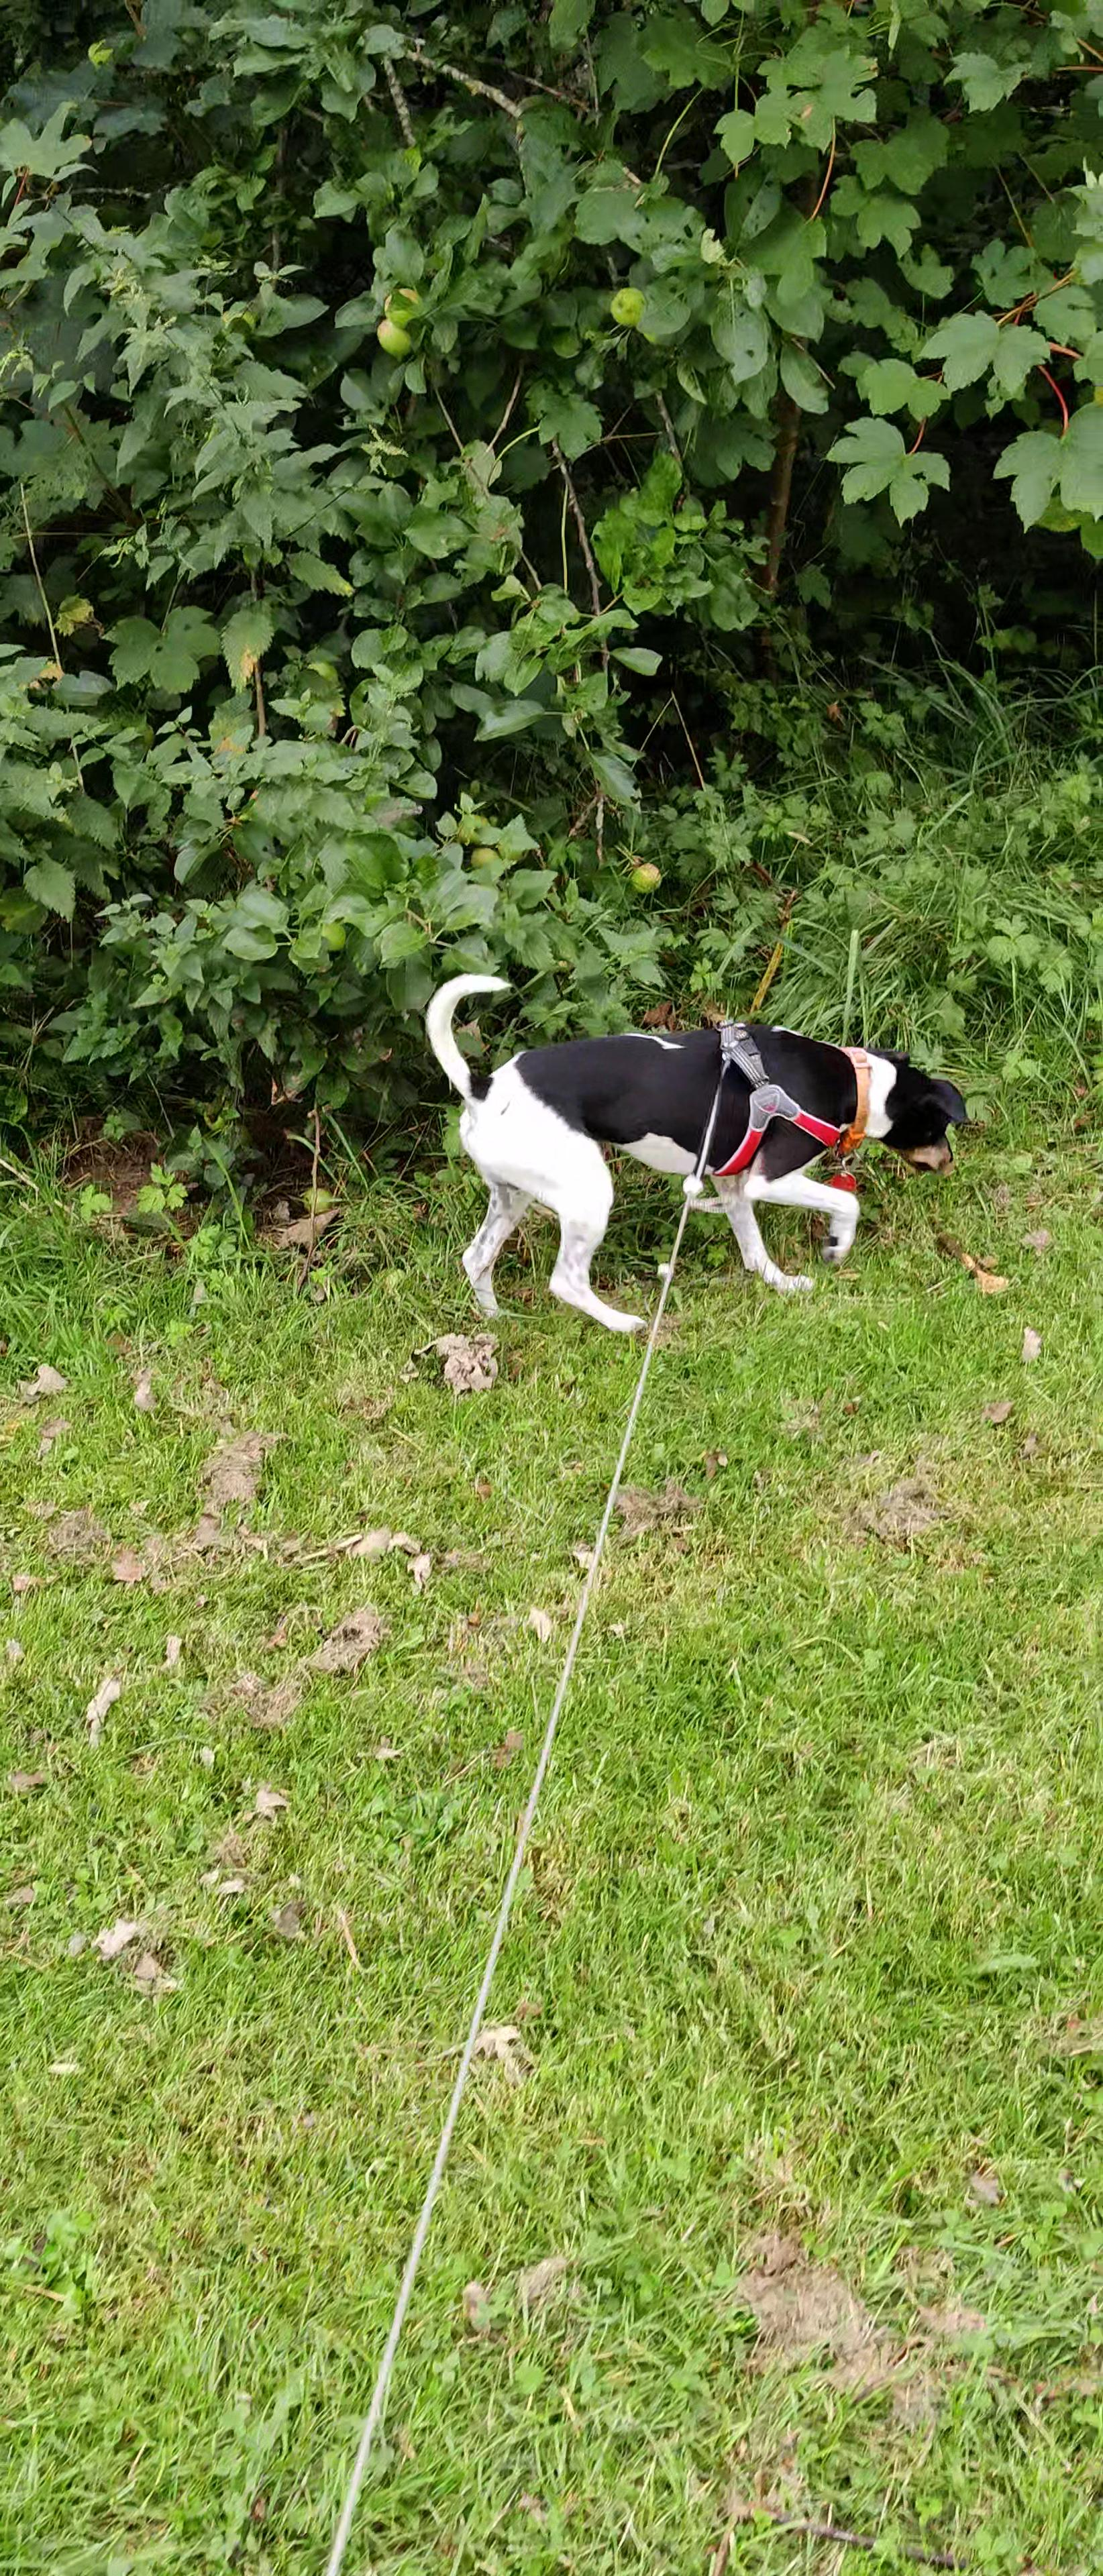Dog: (411, 964, 976, 1332)
